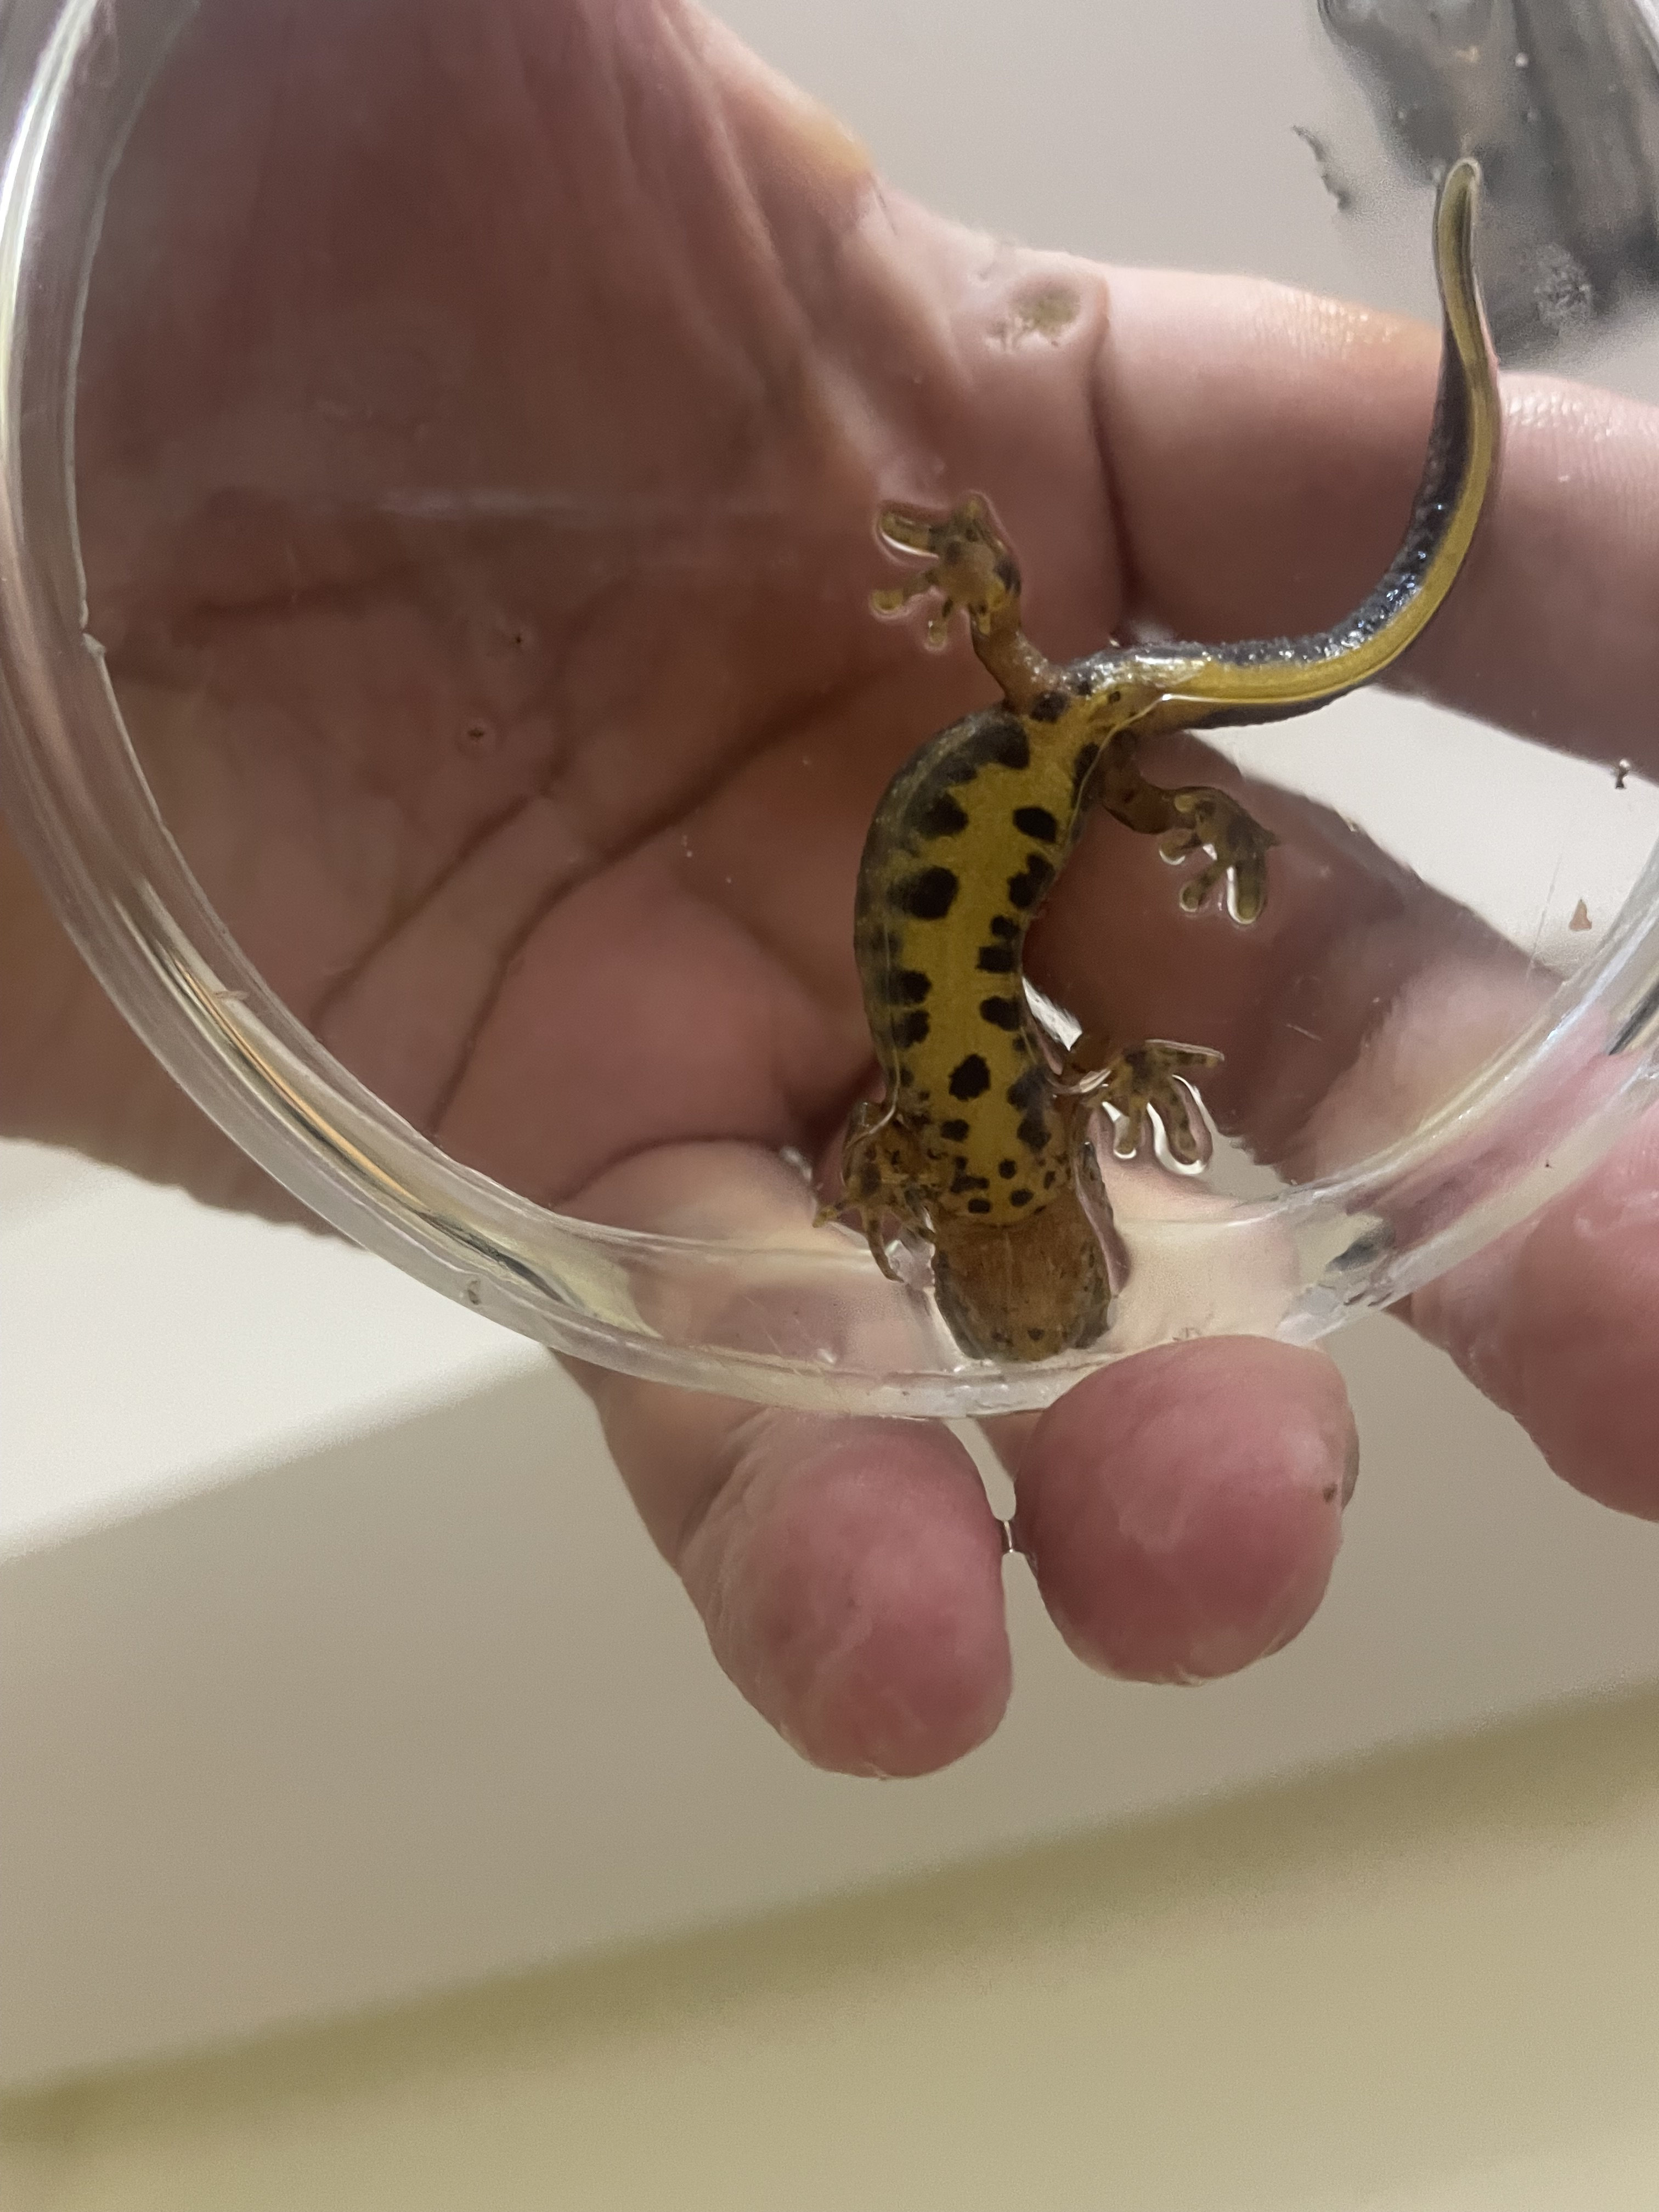Karelin_newt: (854, 700, 1098, 1101)
